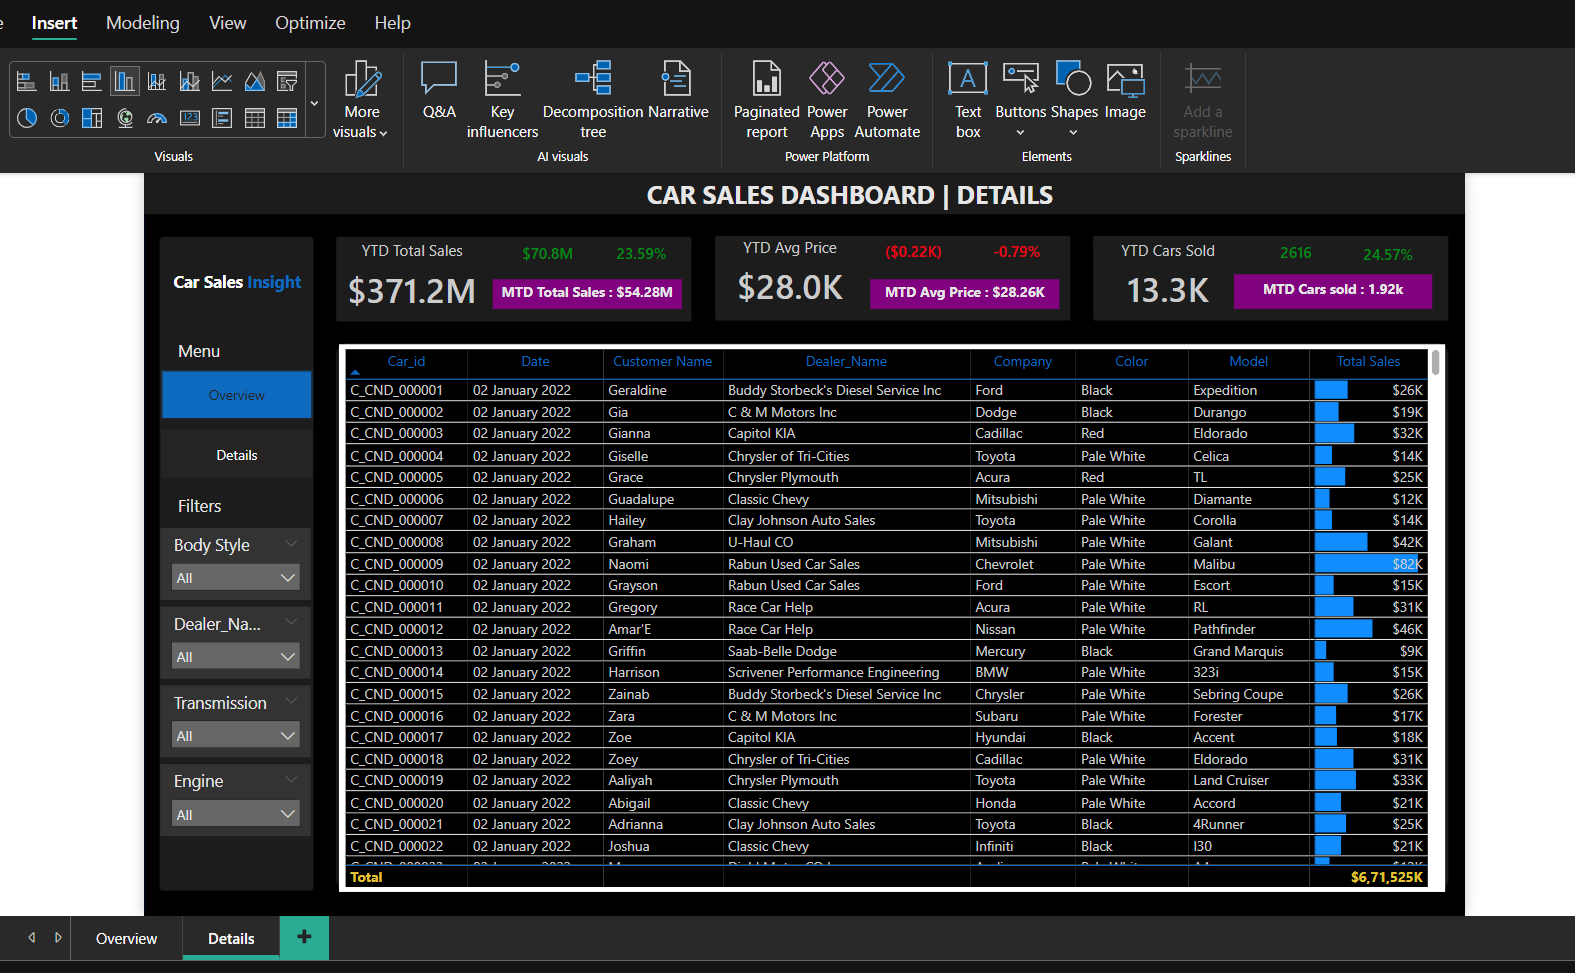

The page's visual inventory and layout, read from the dashboard file:
{"tool":"powerbi","page":{"name":"Details","canvas":[1280,720],"ordinal":1},"visuals":[{"type":"card","title":"YTD Total Sales","fields":{"Values":["car_data.YTD Total Sales"]},"box":[174.4,64.1,170.9,78.3],"z":0},{"type":"card","title":"Sales Difference","fields":{"Values":["car_data.Sales Difference"]},"box":[345.3,58.7,92.5,40.9],"z":1000},{"type":"card","title":"Sales Difference","fields":{"Values":["car_data.YoY Sales Growth"]},"box":[436,58.7,92.5,40.9],"z":2000},{"type":"card","fields":{"Values":["car_data.MTD KPI"]},"box":[338.2,103.2,183.3,28.5],"z":3000},{"type":"card","title":"YTD Avg Price","fields":{"Values":["car_data.YTD Avg Price"]},"box":[541.1,62.3,169.1,76.5],"z":4000},{"type":"card","fields":{"Values":["car_data.Avg Price diff"]},"box":[703,60.5,83.6,35.6],"z":5000},{"type":"card","fields":{"Values":["car_data.YoY Avg Price Growth"]},"box":[795.6,60.5,99.7,35.6],"z":6000},{"type":"card","fields":{"Values":["car_data.Avg Price KPI"]},"box":[703,103.2,183.3,28.5],"z":7000},{"type":"card","title":"YTD Cars Sold","fields":{"Values":["car_data.YTD Cars Sold"]},"box":[895.2,64.1,192.2,76.5],"z":8000},{"type":"card","fields":{"Values":["car_data.Cars Sold Diff"]},"box":[1071.4,60.5,89,37.4],"z":9000},{"type":"card","fields":{"Values":["car_data.YoY Car Sales Growth"]},"box":[1149.7,58.7,110.3,42.7],"z":10000},{"type":"card","fields":{"Values":["car_data.Cars sold KPI"]},"box":[1055.4,97.9,192.2,33.8],"z":11000},{"type":"textbox","box":[482.3,0,437.8,42.7],"z":12000},{"type":"slicer","fields":{"Values":["car_data.Body Style"]},"box":[16,343.5,145.9,69.4],"z":13000},{"type":"slicer","fields":{"Values":["car_data.Dealer_Name"]},"box":[16,420,145.9,69.4],"z":14000},{"type":"slicer","fields":{"Values":["car_data.Transmission"]},"box":[16,496.6,145.9,69.4],"z":15000},{"type":"slicer","fields":{"Values":["car_data.Engine"]},"box":[16,573.1,145.9,69.4],"z":16000},{"type":"tableEx","fields":{"Values":["car_data.Car_id","car_data.Date","car_data.Customer Name","car_data.Dealer_Name","car_data.Company","car_data.Color","car_data.Model","car_data.Price ($)"]},"box":[188.7,165.5,1071.4,530.4],"z":17000},{"type":"textbox","box":[28.3,156.7,76.7,31.7],"z":18000},{"type":"pageNavigator","box":[16.7,191.7,146.7,105],"z":19000},{"type":"textbox","box":[28.3,306.7,76.7,31.7],"z":20000},{"type":"textbox","box":[16.7,71.7,146.7,60],"z":20001}]}

Visuals, with their boxes on the page's 1280x720 design canvas (x1, y1, x2, y2). These are canvas units, not pixel positions in the 1575x973 screenshot, which may show the page scaled, cropped or inside an application window:
"YTD Total Sales" card: bbox(174, 64, 345, 142)
"Sales Difference" card: bbox(345, 59, 438, 100)
"Sales Difference" card: bbox(436, 59, 528, 100)
card - car_data.MTD KPI: bbox(338, 103, 522, 132)
"YTD Avg Price" card: bbox(541, 62, 710, 139)
card - car_data.Avg Price diff: bbox(703, 60, 787, 96)
card - car_data.YoY Avg Price Growth: bbox(796, 60, 895, 96)
card - car_data.Avg Price KPI: bbox(703, 103, 886, 132)
"YTD Cars Sold" card: bbox(895, 64, 1087, 141)
card - car_data.Cars Sold Diff: bbox(1071, 60, 1160, 98)
card - car_data.YoY Car Sales Growth: bbox(1150, 59, 1260, 101)
card - car_data.Cars sold KPI: bbox(1055, 98, 1248, 132)
textbox: bbox(482, 0, 920, 43)
slicer - car_data.Body Style: bbox(16, 344, 162, 413)
slicer - car_data.Dealer_Name: bbox(16, 420, 162, 489)
slicer - car_data.Transmission: bbox(16, 497, 162, 566)
slicer - car_data.Engine: bbox(16, 573, 162, 642)
tableEx - car_data.Car_id x car_data.Date: bbox(189, 166, 1260, 696)
textbox: bbox(28, 157, 105, 188)
pageNavigator: bbox(17, 192, 163, 297)
textbox: bbox(28, 307, 105, 338)
textbox: bbox(17, 72, 163, 132)
